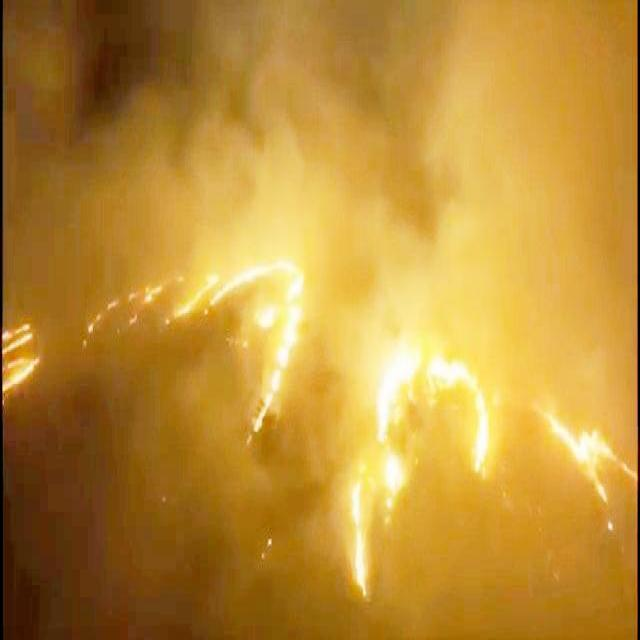Fire: (97, 256, 312, 447), (353, 330, 493, 601), (536, 393, 638, 538), (2, 322, 40, 404)
Smoke: (0, 3, 640, 264)
